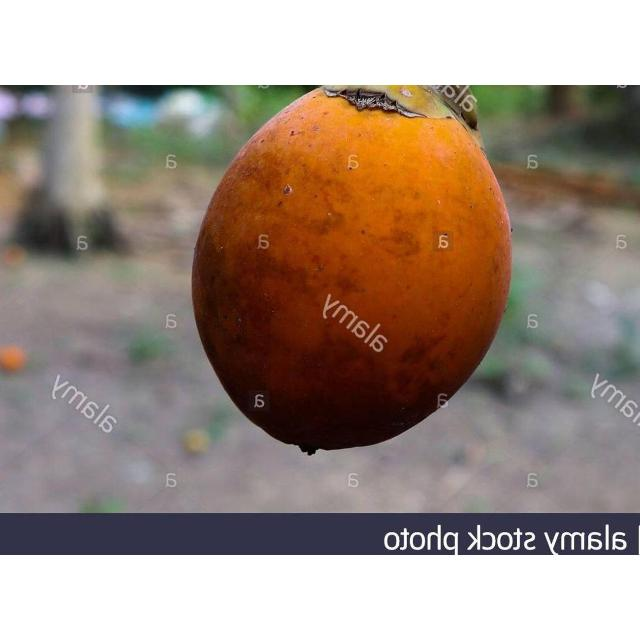good: (190, 85, 513, 457)
